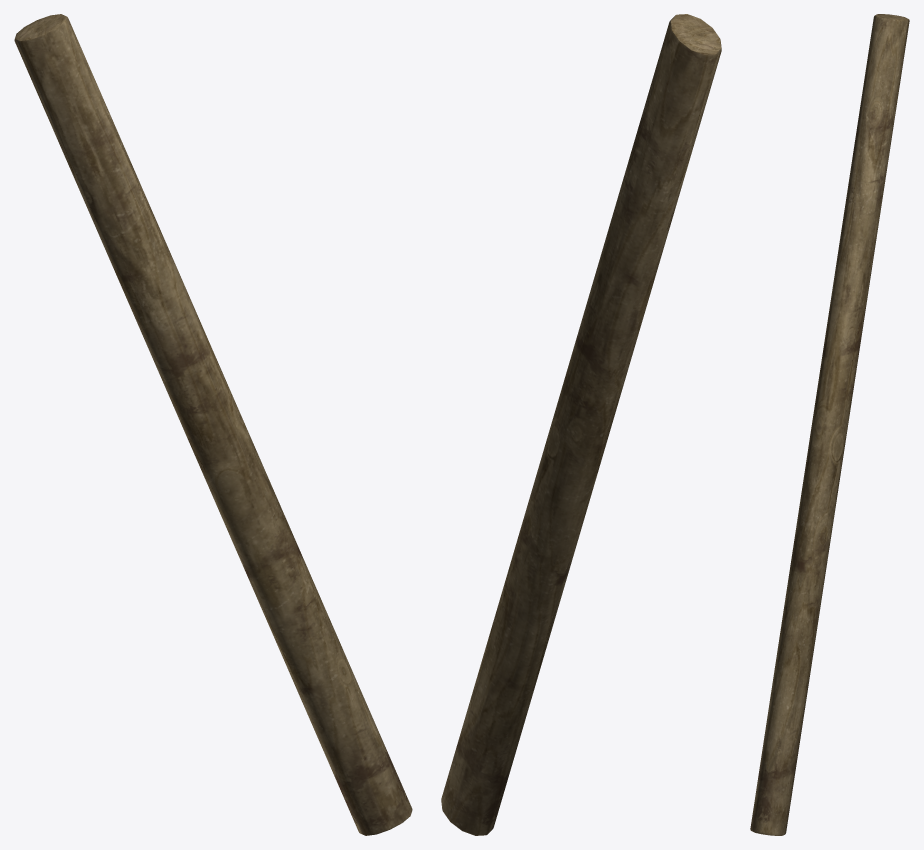
The picture shows the model from 3 angles, left to right: view 1: azimuth 30°, elevation 25°; view 2: azimuth 150°, elevation 25°; view 3: azimuth 270°, elevation 25°; orthographic projection. The views are drawn at different scales.
Parts seen in each view (by area): view 1: Cylinder001_Material_0_0; view 2: Cylinder001_Material_0_0; view 3: Cylinder001_Material_0_0.
Part boxes in pixels (x1,y1,x2,y2): Cylinder001_Material_0_0: (14,14,412,835); Cylinder001_Material_0_0: (441,14,721,835); Cylinder001_Material_0_0: (750,14,909,835).
Bounding box in the file's own units: 1.07 × 2.67 × 0.5388.
Materials: 1 (1 with a texture image).
